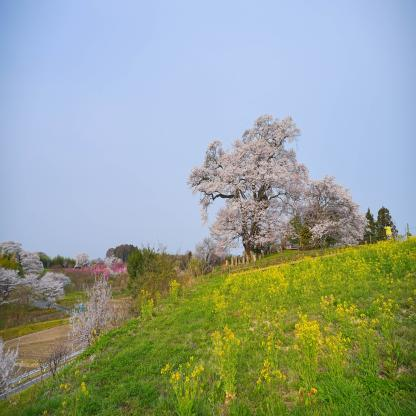EdohiganSakura: (187, 112, 373, 251)
